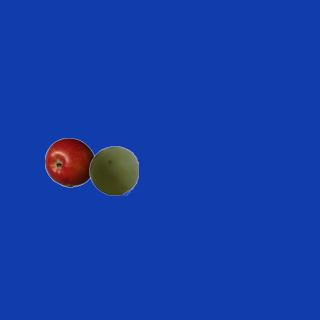Apple Braeburn: (44, 137, 94, 187)
Grape White 4: (88, 145, 138, 195)
